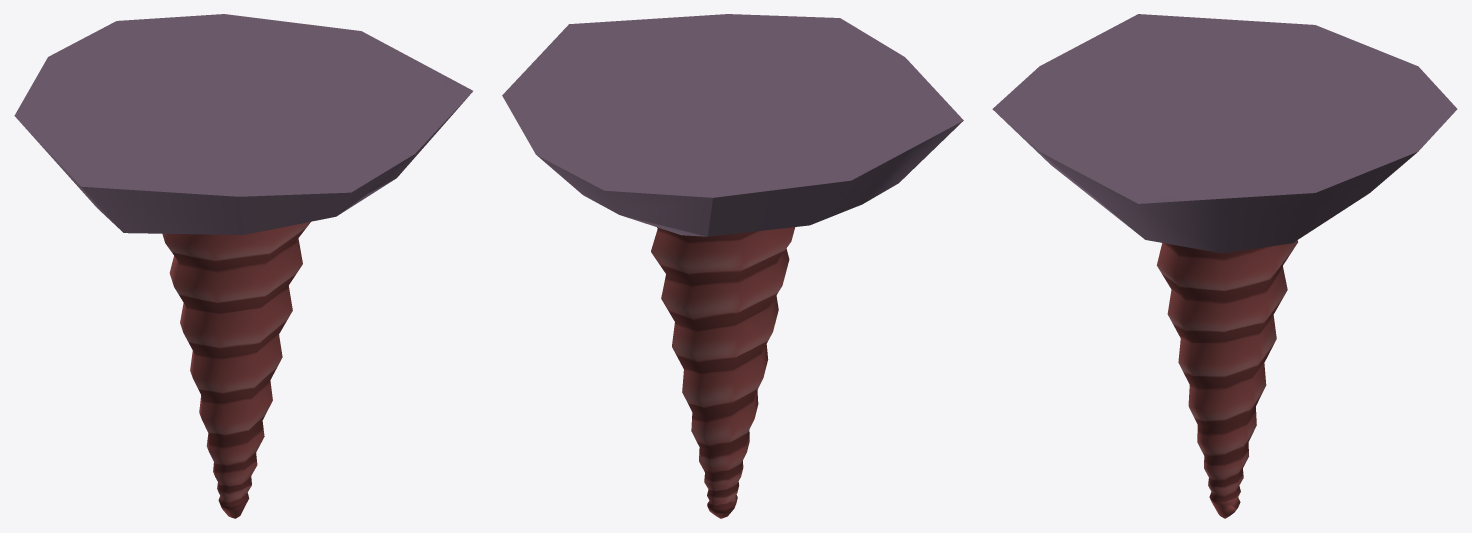
Rendered from m_environment2_stalagmite_3_an_4.fbx.
The picture shows the model from 3 angles, left to right: view 1: azimuth 30°, elevation 25°; view 2: azimuth 150°, elevation 25°; view 3: azimuth 270°, elevation 25°; orthographic projection.
Visible parts, largest first — view 1: polySurface293; view 2: polySurface293; view 3: polySurface293.
Boxes of the visible parts, x1=… form: polySurface293: x1=14, y1=14, x2=472, y2=518; polySurface293: x1=502, y1=14, x2=963, y2=518; polySurface293: x1=992, y1=14, x2=1457, y2=518.
Size of the model in its own units: 9.05 by 9.09 by 9.37.
